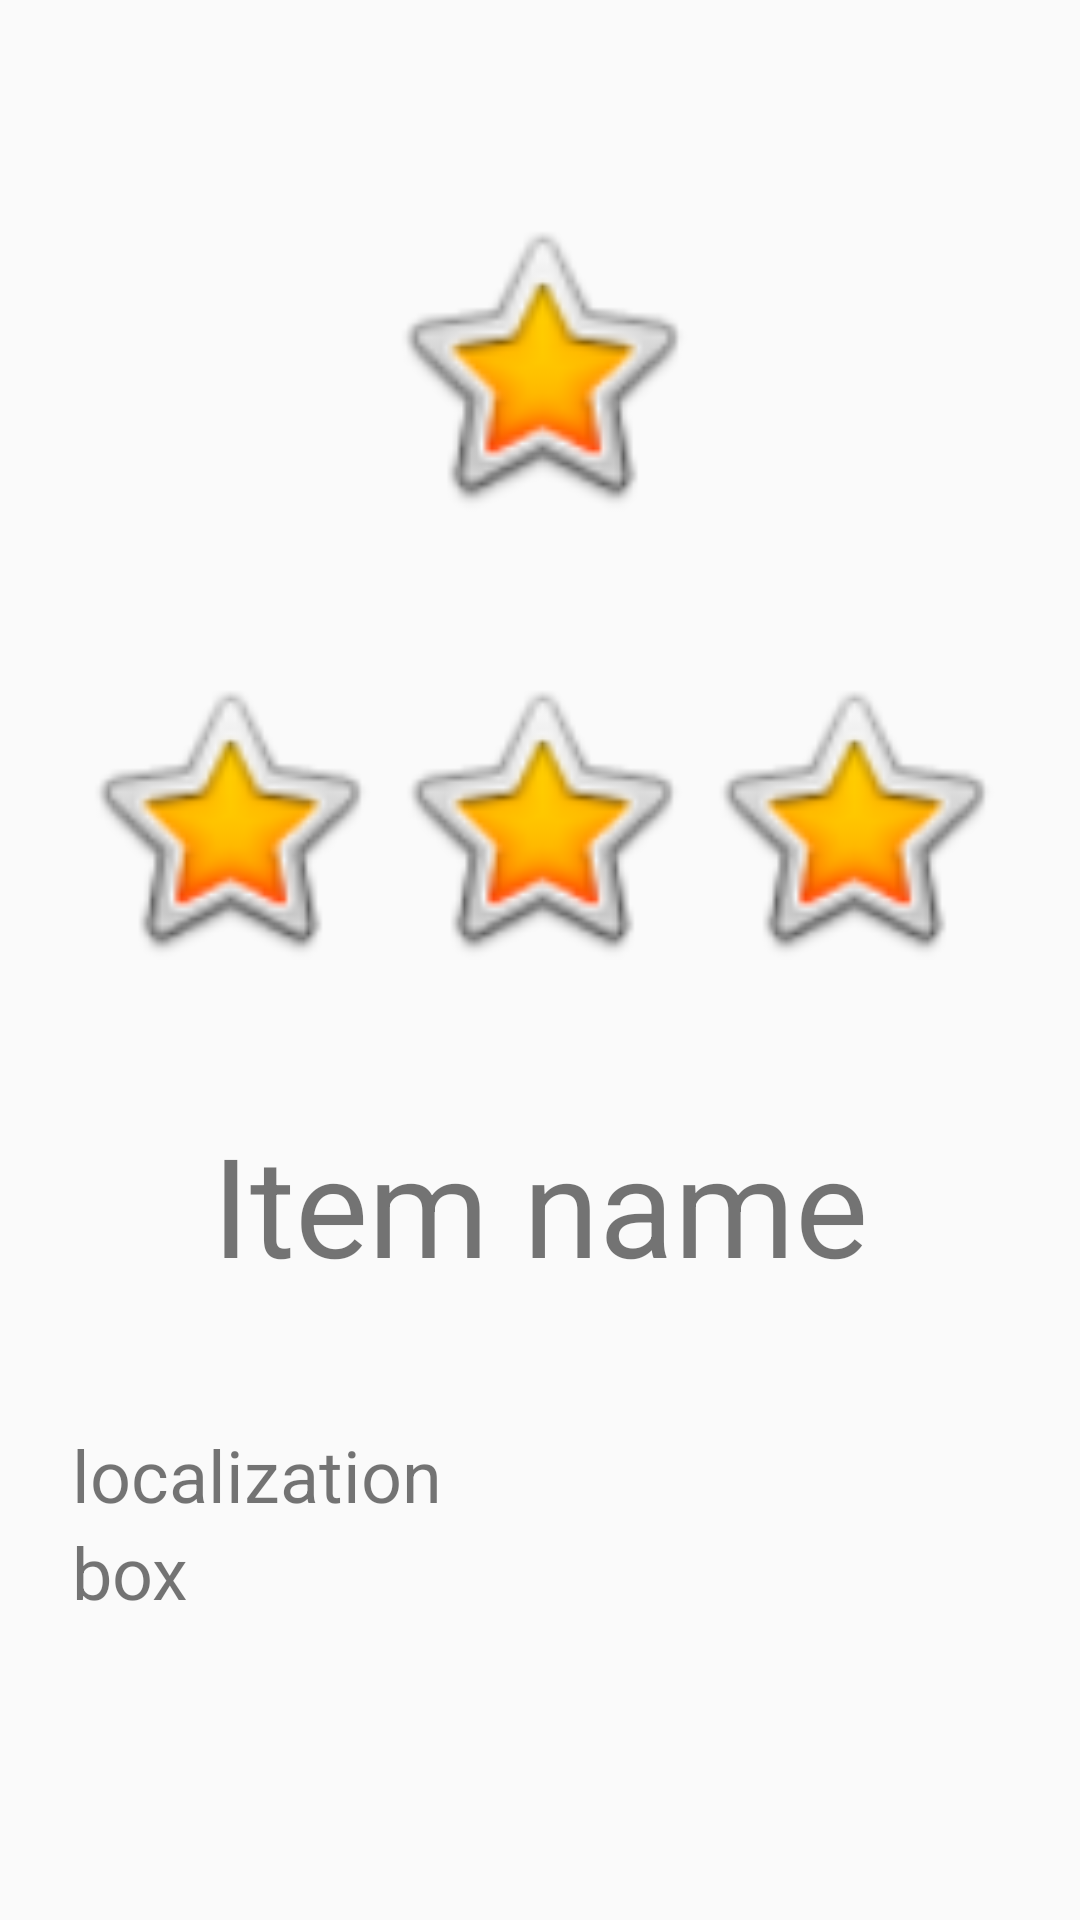

Icon bounding boxes for this 1080×1920 phone screenshot, format [left=x1, top=y1, right=x2, bottom=y2]:
star on: [left=407, top=236, right=678, bottom=499], [left=100, top=694, right=361, bottom=948], [left=412, top=694, right=673, bottom=948], [left=724, top=694, right=985, bottom=948]
